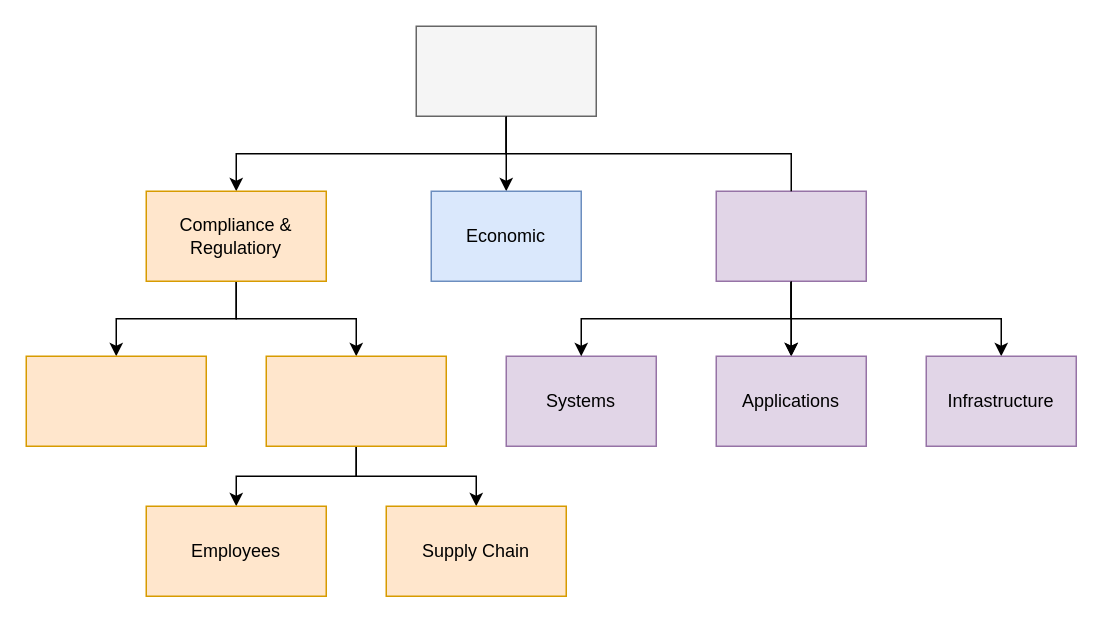
This 1103x623 diagram has some shape labels left out. Here are the shapes that lost their labels. From the top down, the box of each, then its label:
(415, 25, 596, 116): Security Metrics
(715, 190, 866, 281): Operational
(25, 355, 206, 446): RMF
(265, 355, 446, 446): FEDRAMP+
